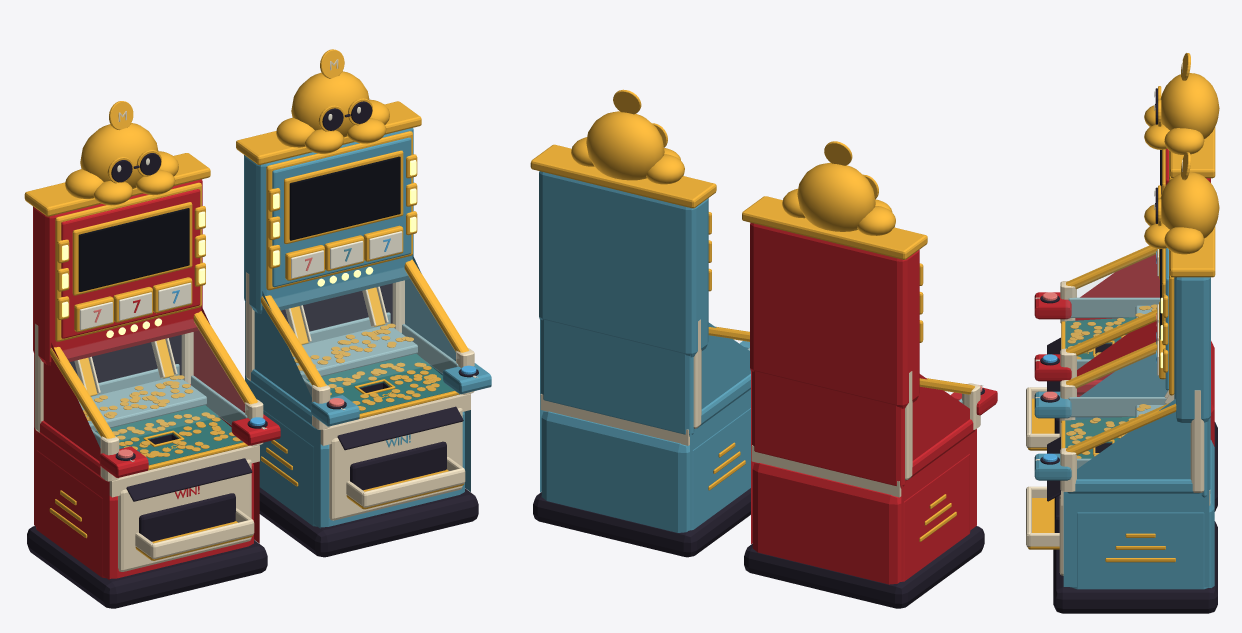
The model's file is two_cabinets.glb.
3 renders of one model, left to right at view 1: azimuth 30°, elevation 25°; view 2: azimuth 150°, elevation 25°; view 3: azimuth 270°, elevation 25°, orthographic. The views are drawn at different scales.
Parts seen in each view (by area): view 1: Base_Plinth, Base_LowerBody, Header_Shell, Header_Shell_Blue, Display_BlankBlack, Display_BlankBlack_Blue, Base_Plinth_Blue, Base_LowerBody_Blue, Side_ProfilePanel, Side_ProfilePanel_Blue, Header_RedInset, Header_RedInset_Blue (+57 smaller); view 2: Header_Shell, Header_Shell_Blue, Base_LowerBody, Base_LowerBody_Blue, Back_Shell, Back_Shell_Blue, Base_Plinth, Base_Plinth_Blue, Side_ProfilePanel, Mascot_BlobBody, Mascot_BlobBody_Blue, Side_ProfilePanel_Blue (+12 smaller); view 3: Base_LowerBody_Blue, Side_ProfilePanel.001_Blue, Header_Shell_Blue, Base_Plinth_Blue, Mascot_BlobBody, Mascot_BlobBody_Blue, Side_ProfilePanel_Blue, Side_ProfilePanel, Side_Lower_Rail.001_Blue, Field_SideFence_Blue, Field_SideFence, Header_TopTrim_Blue (+36 smaller).
Boxes of the visible parts, bbox=[...] form: Base_Plinth: bbox=[27, 526, 267, 608]; Base_LowerBody: bbox=[36, 450, 253, 578]; Header_Shell: bbox=[33, 179, 202, 365]; Header_Shell_Blue: bbox=[244, 128, 413, 313]; Display_BlankBlack: bbox=[78, 208, 189, 291]; Display_BlankBlack_Blue: bbox=[289, 156, 400, 240]; Base_Plinth_Blue: bbox=[259, 487, 478, 557]; Base_LowerBody_Blue: bbox=[259, 410, 464, 527]; Side_ProfilePanel: bbox=[34, 343, 109, 579]; Side_ProfilePanel_Blue: bbox=[245, 291, 320, 528]; Header_RedInset: bbox=[61, 189, 200, 338]; Header_RedInset_Blue: bbox=[272, 137, 411, 287]; Header_Shell: bbox=[750, 222, 919, 408]; Header_Shell_Blue: bbox=[539, 171, 708, 357]; Base_LowerBody: bbox=[752, 454, 970, 584]; Base_LowerBody_Blue: bbox=[541, 408, 750, 532]; Back_Shell: bbox=[752, 371, 905, 488]; Back_Shell_Blue: bbox=[540, 319, 694, 436]; Base_Plinth: bbox=[744, 526, 984, 608]; Base_Plinth_Blue: bbox=[533, 488, 750, 557]; Side_ProfilePanel: bbox=[901, 374, 976, 580]; Mascot_BlobBody: bbox=[797, 162, 875, 231]; Mascot_BlobBody_Blue: bbox=[586, 111, 664, 180]; Side_ProfilePanel_Blue: bbox=[690, 322, 750, 529]; Base_LowerBody_Blue: bbox=[1070, 440, 1214, 589]; Side_ProfilePanel.001_Blue: bbox=[1063, 399, 1209, 586]; Header_Shell_Blue: bbox=[1174, 277, 1210, 422]; Base_Plinth_Blue: bbox=[1053, 521, 1217, 613]; Mascot_BlobBody: bbox=[1160, 73, 1219, 139]; Mascot_BlobBody_Blue: bbox=[1160, 172, 1219, 238]; Side_ProfilePanel_Blue: bbox=[1080, 353, 1168, 396]; Side_ProfilePanel: bbox=[1080, 254, 1159, 297]; Side_Lower_Rail.001_Blue: bbox=[1067, 479, 1201, 493]; Field_SideFence_Blue: bbox=[1068, 397, 1166, 417]; Field_SideFence: bbox=[1068, 297, 1159, 317]; Header_TopTrim_Blue: bbox=[1170, 226, 1215, 277].
Bounding box in the file's own units: 2.53 × 2.8 × 1.2.
